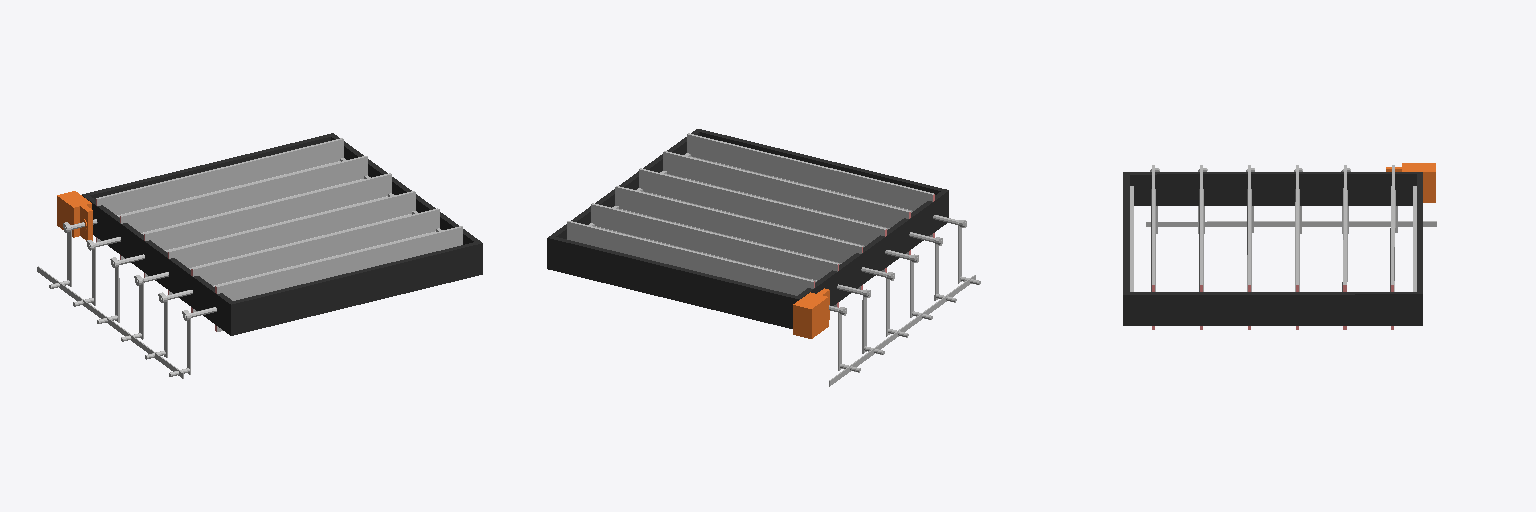
Rendered from damper.obj.
3 views of the same model, side by side, from view 1: azimuth 30°, elevation 25°; view 2: azimuth 150°, elevation 25°; view 3: azimuth 270°, elevation 25° (orthographic).
Parts seen in each view (by area): view 1: TopDamper_DamperGeom; view 2: TopDamper_DamperGeom; view 3: TopDamper_DamperGeom.
Part boxes in pixels (x1,y1,x2,y2): TopDamper_DamperGeom: (37,133,482,378); TopDamper_DamperGeom: (547,129,980,386); TopDamper_DamperGeom: (1123,163,1436,329).
Size of the model in its own units: 1.99 by 0.5248 by 1.81.